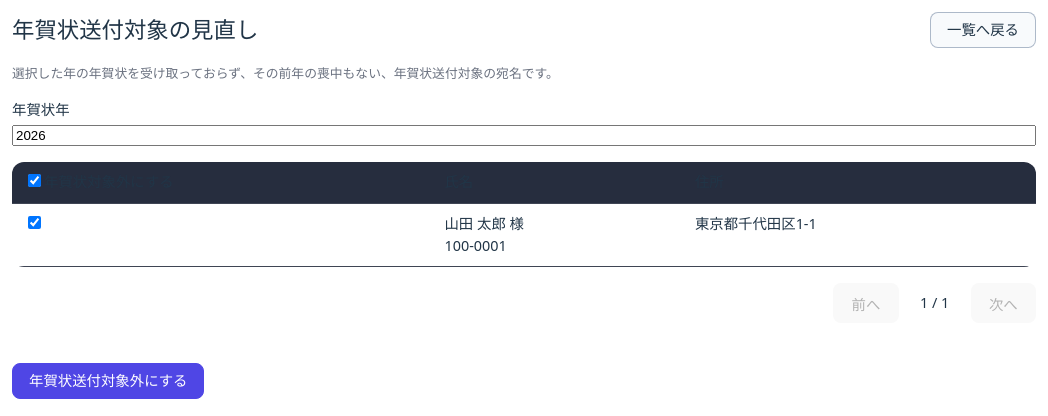
it: NengaTargetReviewPage › does not stay on the loading message when the year is cleared during submit
The width and height of the screenshot is (1048, 416).
Expected: the checkbox named "山田 太郎 様 を年賀状対象外にする" is shown, x1=28 y1=216 x2=41 y2=229
Click the button "年賀状送付対象外にする".
click(108, 381)  # box x1=12 y1=363 x2=204 y2=399
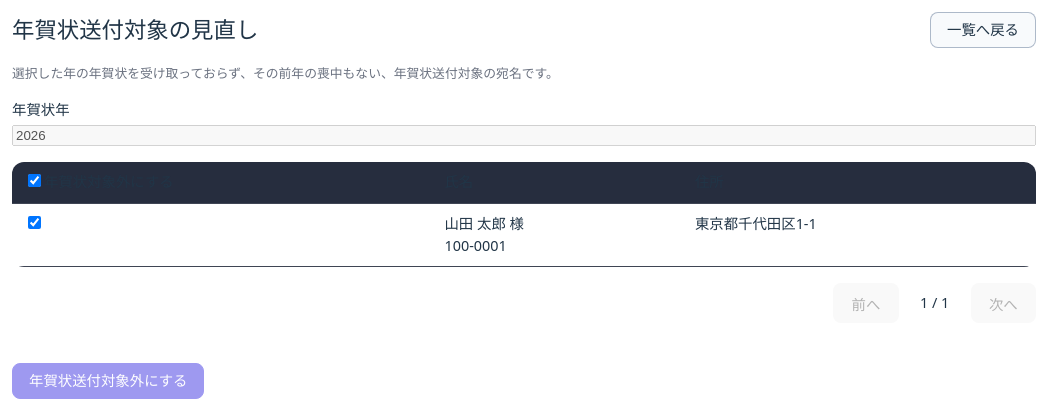
Result: the number field labelled "年賀状年" is disabled
Clear the number field labelled "年賀状年" at coordinates (524, 135), box x1=12 y1=125 x2=1036 y2=146
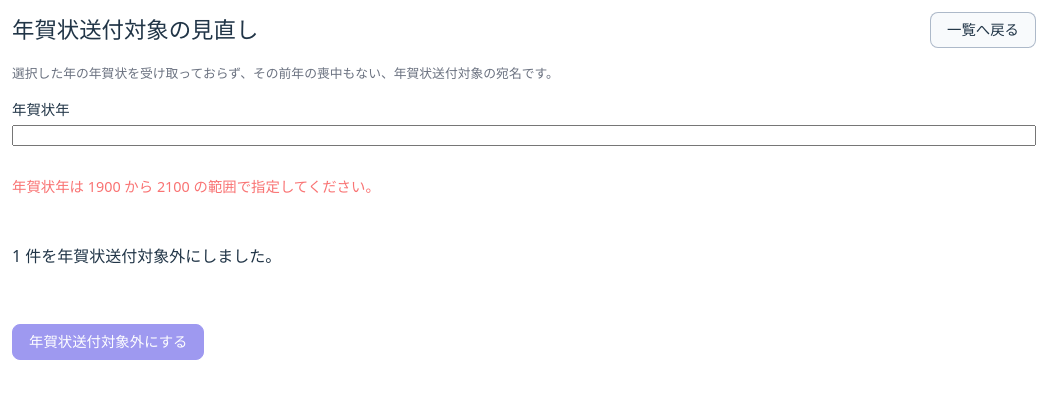
Result: the text "年賀状年は 1900 から 2100 の範囲で指定してください。" is shown at x1=12 y1=177 x2=380 y2=196
